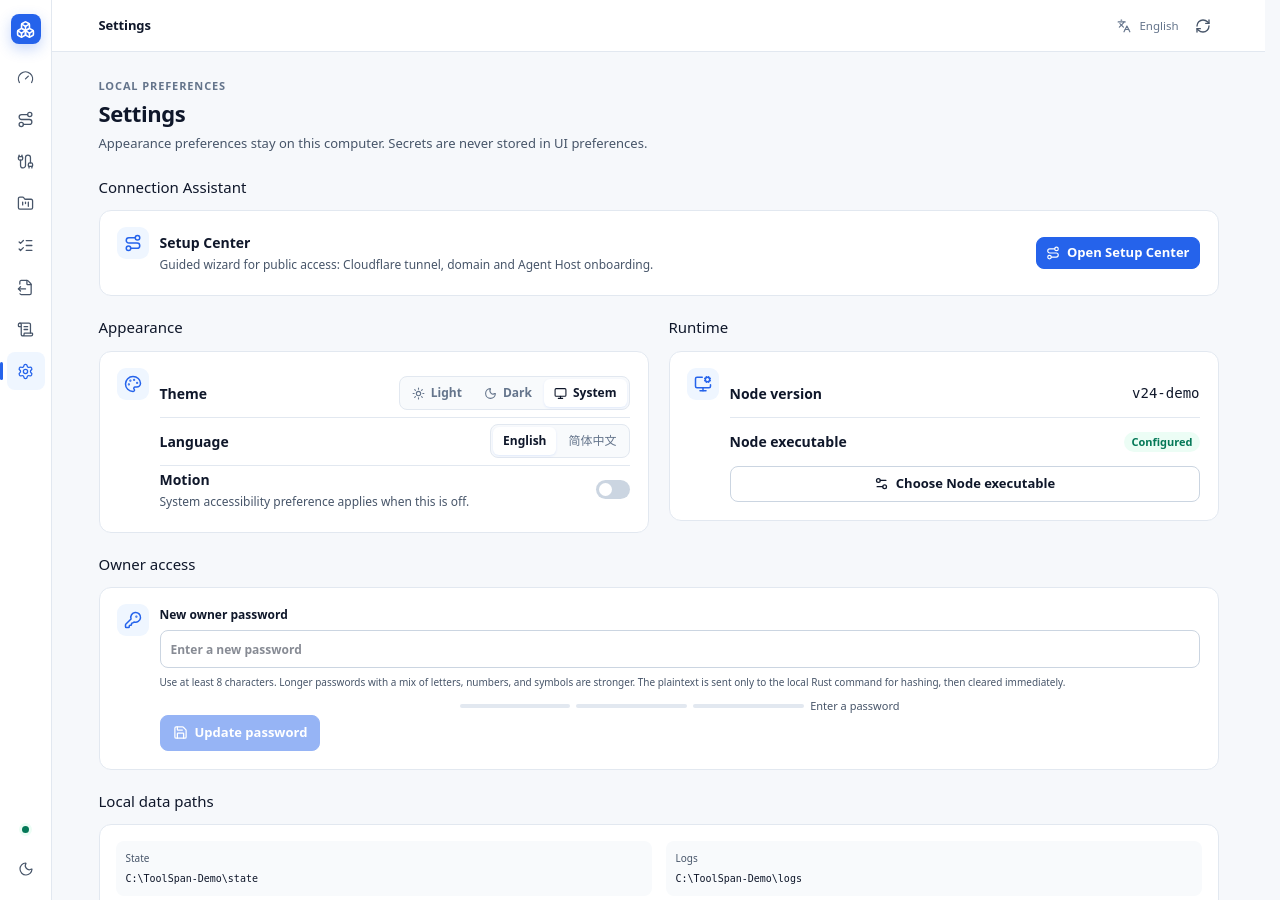
ToolSpan desktop renderer › shows owner password requirements and accepts the eight-character minimum in settings
Expected: the text "Use at least 8 characters" is shown, [160, 675, 1066, 689]
Expected: the message named "Password strength: Enter a password" is shown, [460, 698, 900, 715]
In the password field labelled "New owner password": (680, 649) [160, 630, 1200, 668], type "aB3!xyz?"
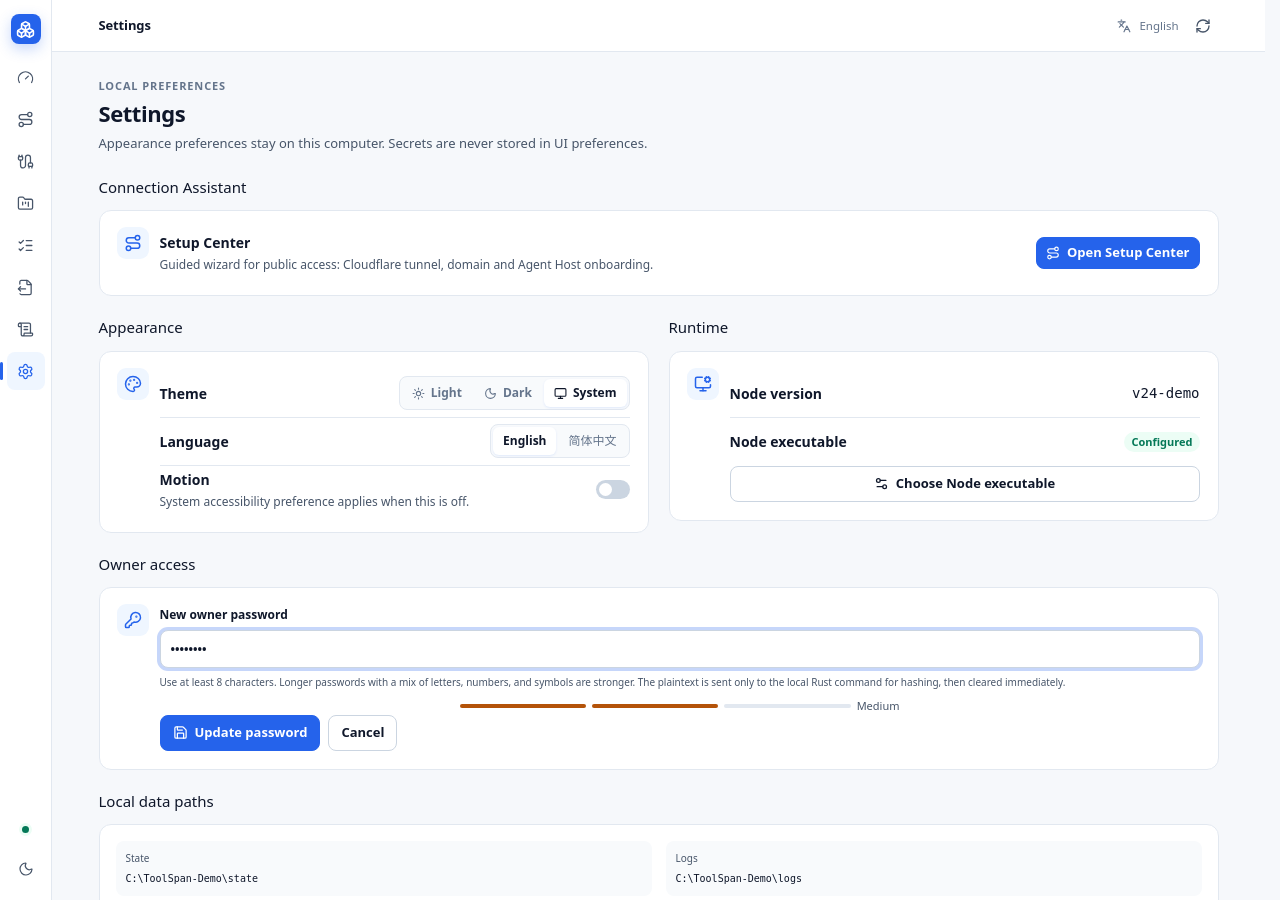
Expected: the button "Update password" is enabled, [160, 715, 320, 751]
Expected: the message named "Password strength: Medium" is shown, [460, 698, 900, 715]
